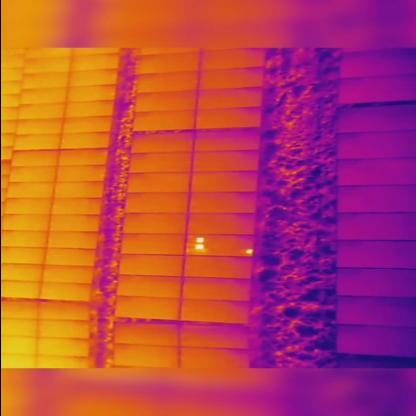panel: (185, 210, 259, 241), (177, 296, 253, 325), (181, 253, 257, 281), (180, 275, 253, 304), (184, 232, 256, 261), (112, 294, 181, 323), (109, 273, 185, 299), (189, 148, 261, 175), (112, 252, 186, 278), (185, 190, 261, 215), (116, 232, 189, 258), (192, 129, 262, 154), (120, 210, 190, 235), (188, 170, 261, 193), (125, 170, 192, 195), (125, 151, 194, 175), (122, 189, 191, 212), (129, 132, 197, 154)
